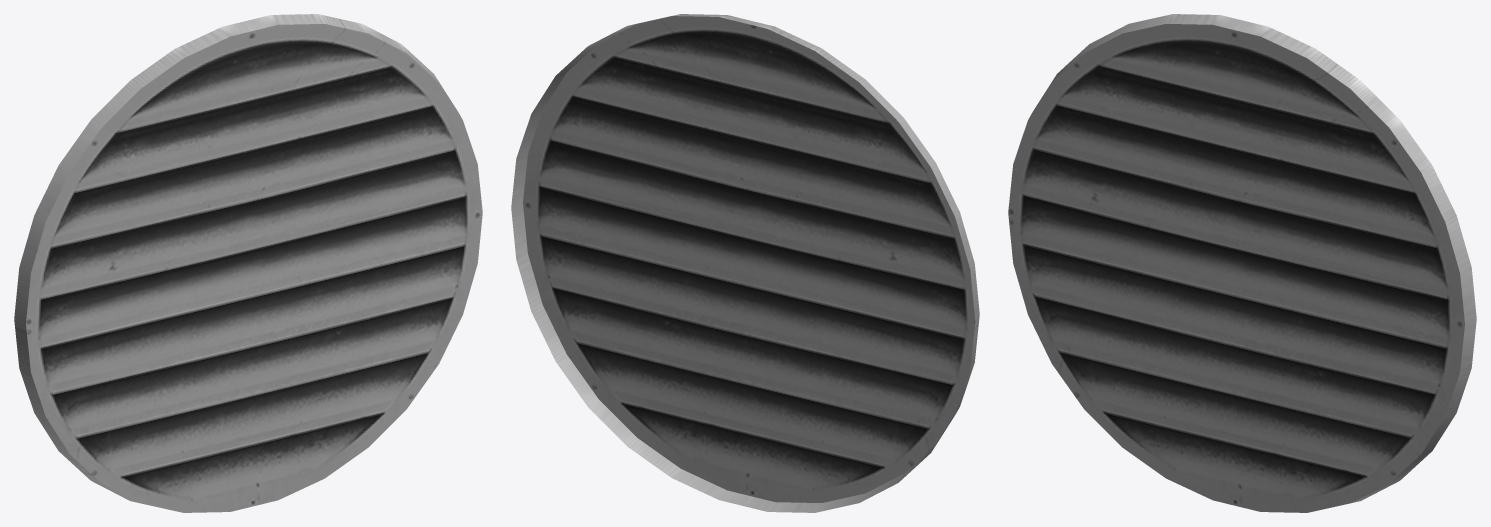
Rendered from prp_vent_01.fbx.
3 renders of one model, left to right at view 1: azimuth 30°, elevation 25°; view 2: azimuth 150°, elevation 25°; view 3: azimuth 330°, elevation 25°, orthographic.
Visible parts, largest first — view 1: prp_vent_01; view 2: prp_vent_01; view 3: prp_vent_01.
Boxes of the visible parts, x1,y1,x2,y2 form: prp_vent_01: [14, 14, 482, 512]; prp_vent_01: [511, 14, 979, 512]; prp_vent_01: [1008, 14, 1476, 512].
Bounding box in the file's own units: 71.49 × 71.1 × 2.16.
